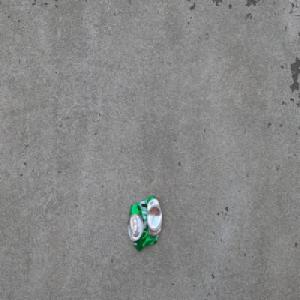SodaCan: (126, 195, 162, 253)
